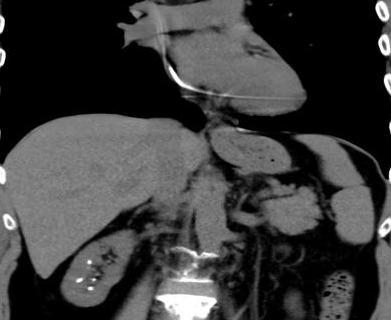Tas_Var: (74, 276, 84, 283), (90, 277, 98, 282), (86, 286, 94, 291), (86, 258, 92, 264)
